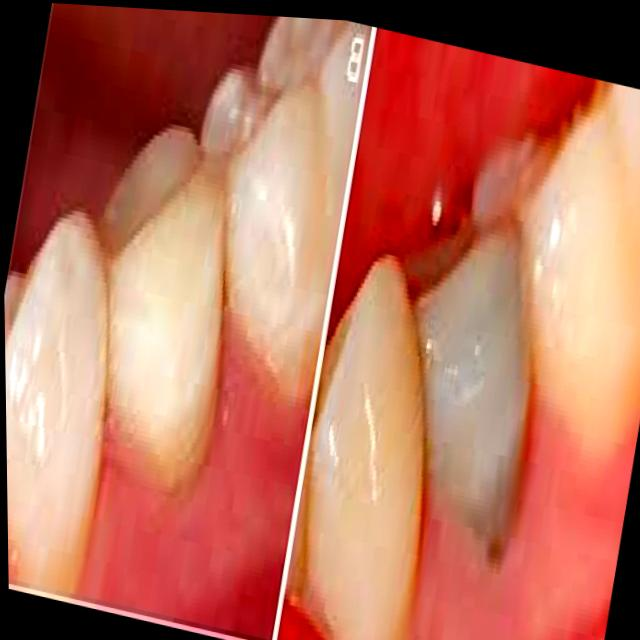tooth-discoloration: (417, 229, 530, 547)
